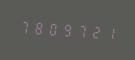eight: (31, 17, 44, 38)
nine: (59, 19, 72, 40)
one: (101, 22, 114, 43)
seven: (17, 16, 30, 37), (73, 20, 86, 41)
two: (87, 21, 100, 42)
zero: (45, 18, 58, 39)
